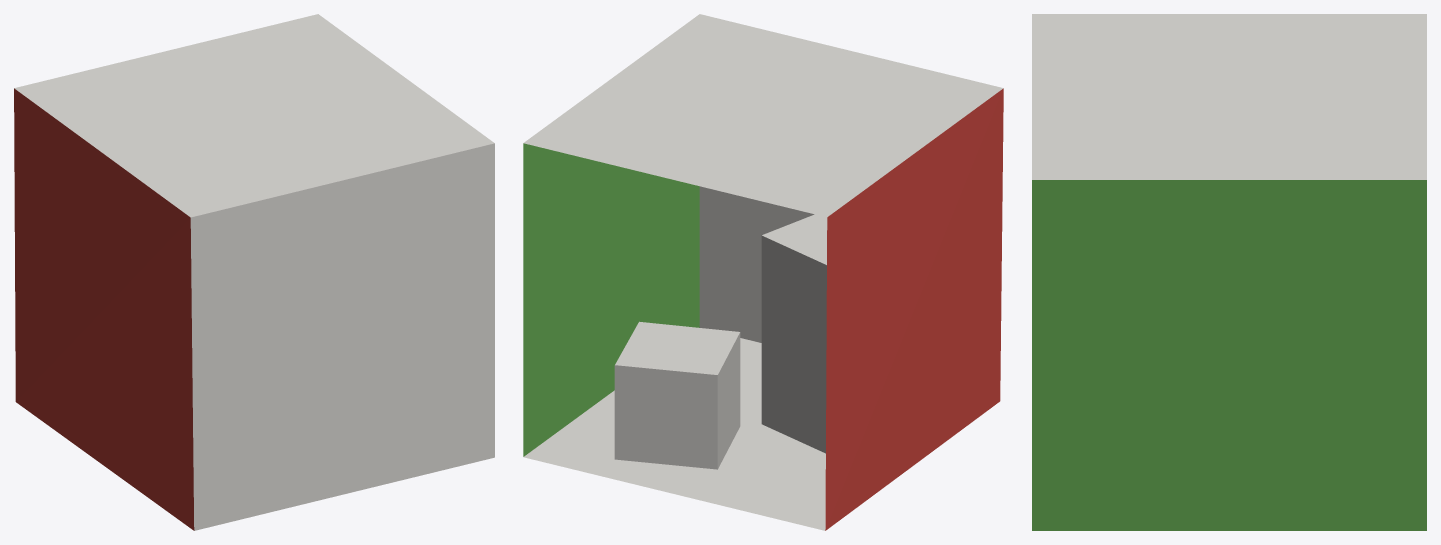
The model's file is cornell_box.glb.
The picture shows the model from 3 angles, left to right: view 1: azimuth 30°, elevation 25°; view 2: azimuth 150°, elevation 25°; view 3: azimuth 270°, elevation 25°; orthographic projection. The views are drawn at different scales.
Size of the model in its own units: 556 by 549 by 559.
